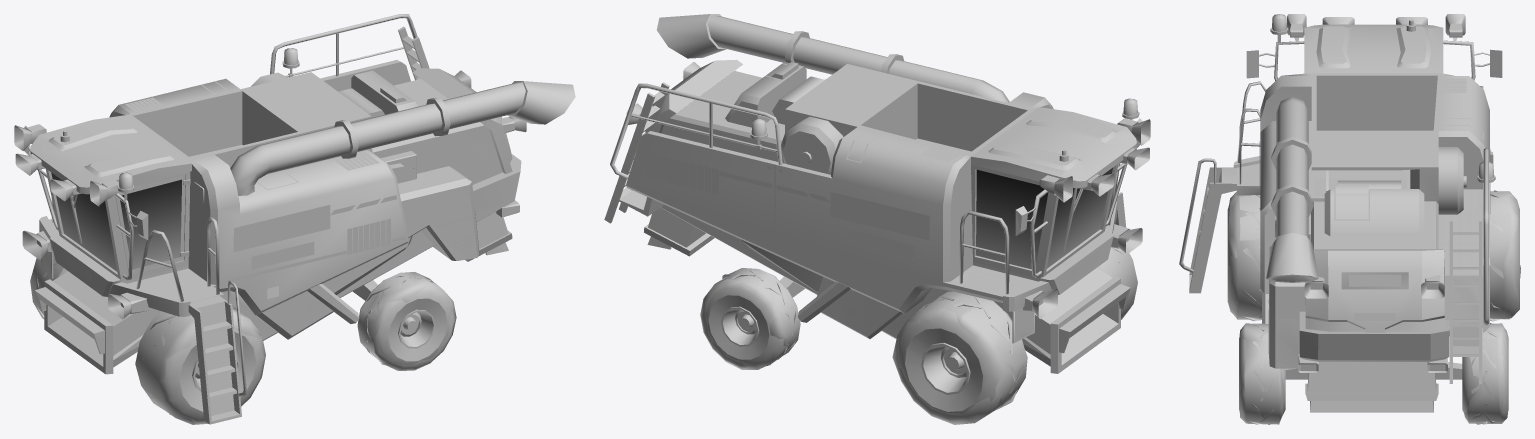
Rendered from TFP_Combine_01B.fbx.
The picture shows the model from 3 angles, left to right: view 1: azimuth 30°, elevation 25°; view 2: azimuth 150°, elevation 25°; view 3: azimuth 270°, elevation 25°; orthographic projection. The views are drawn at different scales.
Visible parts, largest first — view 1: TFP_Combine_01B_Body_LOD0, TFP_Combine_01B_Unloading_Tube_LOD0, TFP_Combine_01B_Header_LOD0, TFP_Combine_01B_Wheel_R.L_LOD0, TFP_Combine_01B_Door_LOD0, TFP_Combine_01B_Logos_LOD0, TFP_Combine_01B_Wheel_F.L_LOD0, TFP_Combine_01B_Wheel_Dirt_F.L, TFP_Combine_01B_Wheel_Dirt_R.L, TFP_Combine_01B_Lights_LOD0, TFP_Combine_01B_Wheel_Dirt_F.R; view 2: TFP_Combine_01B_Body_LOD0, TFP_Combine_01B_Unloading_Tube_LOD0, TFP_Combine_01B_Wheel_F.R_LOD0, TFP_Combine_01B_Header_LOD0, TFP_Combine_01B_Wheel_Dirt_F.R, TFP_Combine_01B_Wheel_R.R_LOD0, TFP_Combine_01B_Logos_LOD0, TFP_Combine_01B_Wheel_Dirt_R.R, TFP_Combine_01B_Lights_LOD0, TFP_Combine_01B_Wheel_Dirt_F.L; view 3: TFP_Combine_01B_Body_LOD0, TFP_Combine_01B_Unloading_Tube_LOD0, TFP_Combine_01B_Wheel_Dirt_R.L, TFP_Combine_01B_Wheel_F.L_LOD0, TFP_Combine_01B_Wheel_Dirt_F.R, TFP_Combine_01B_Wheel_Dirt_R.R, TFP_Combine_01B_Lights_LOD0, TFP_Combine_01B_Wheel_R.R_LOD0, TFP_Combine_01B_Wheel_Dirt_F.L, TFP_Combine_01B_Logos_LOD0, TFP_Combine_01B_Wheel_F.R_LOD0, TFP_Combine_01B_Wheel_R.L_LOD0.
Part boxes in pixels (left/top/right/bottom): TFP_Combine_01B_Body_LOD0: left=24, top=14, right=521, bottom=424; TFP_Combine_01B_Unloading_Tube_LOD0: left=230, top=81, right=575, bottom=195; TFP_Combine_01B_Header_LOD0: left=35, top=271, right=160, bottom=374; TFP_Combine_01B_Wheel_R.L_LOD0: left=360, top=275, right=452, bottom=370; TFP_Combine_01B_Door_LOD0: left=115, top=175, right=185, bottom=273; TFP_Combine_01B_Logos_LOD0: left=66, top=198, right=439, bottom=283; TFP_Combine_01B_Wheel_F.L_LOD0: left=142, top=303, right=265, bottom=423; TFP_Combine_01B_Wheel_Dirt_F.L: left=135, top=309, right=263, bottom=424; TFP_Combine_01B_Wheel_Dirt_R.L: left=357, top=272, right=456, bottom=370; TFP_Combine_01B_Lights_LOD0: left=14, top=70, right=526, bottom=319; TFP_Combine_01B_Wheel_Dirt_F.R: left=30, top=257, right=67, bottom=319; TFP_Combine_01B_Body_LOD0: left=604, top=59, right=1142, bottom=343; TFP_Combine_01B_Unloading_Tube_LOD0: left=657, top=14, right=1009, bottom=102; TFP_Combine_01B_Wheel_F.R_LOD0: left=897, top=295, right=1023, bottom=413; TFP_Combine_01B_Header_LOD0: left=993, top=268, right=1130, bottom=373; TFP_Combine_01B_Wheel_Dirt_F.R: left=892, top=291, right=1027, bottom=424; TFP_Combine_01B_Wheel_R.R_LOD0: left=700, top=270, right=797, bottom=369; TFP_Combine_01B_Logos_LOD0: left=830, top=192, right=1098, bottom=280; TFP_Combine_01B_Wheel_Dirt_R.R: left=701, top=268, right=800, bottom=369; TFP_Combine_01B_Lights_LOD0: left=626, top=62, right=1150, bottom=318; TFP_Combine_01B_Wheel_Dirt_F.L: left=1097, top=247, right=1137, bottom=319; TFP_Combine_01B_Body_LOD0: left=1179, top=14, right=1502, bottom=412; TFP_Combine_01B_Unloading_Tube_LOD0: left=1266, top=96, right=1318, bottom=282; TFP_Combine_01B_Wheel_Dirt_R.L: left=1239, top=323, right=1284, bottom=424; TFP_Combine_01B_Wheel_F.L_LOD0: left=1227, top=195, right=1261, bottom=321; TFP_Combine_01B_Wheel_Dirt_F.R: left=1490, top=191, right=1520, bottom=319; TFP_Combine_01B_Wheel_Dirt_R.R: left=1464, top=323, right=1508, bottom=423; TFP_Combine_01B_Lights_LOD0: left=1287, top=14, right=1465, bottom=298; TFP_Combine_01B_Wheel_R.R_LOD0: left=1462, top=323, right=1508, bottom=424; TFP_Combine_01B_Wheel_Dirt_F.L: left=1228, top=191, right=1260, bottom=319; TFP_Combine_01B_Logos_LOD0: left=1259, top=141, right=1490, bottom=320; TFP_Combine_01B_Wheel_F.R_LOD0: left=1490, top=190, right=1519, bottom=321; TFP_Combine_01B_Wheel_R.L_LOD0: left=1239, top=324, right=1285, bottom=424.
Size of what is drawn, in the model's own units: 10.22 by 5.03 by 5.85.
